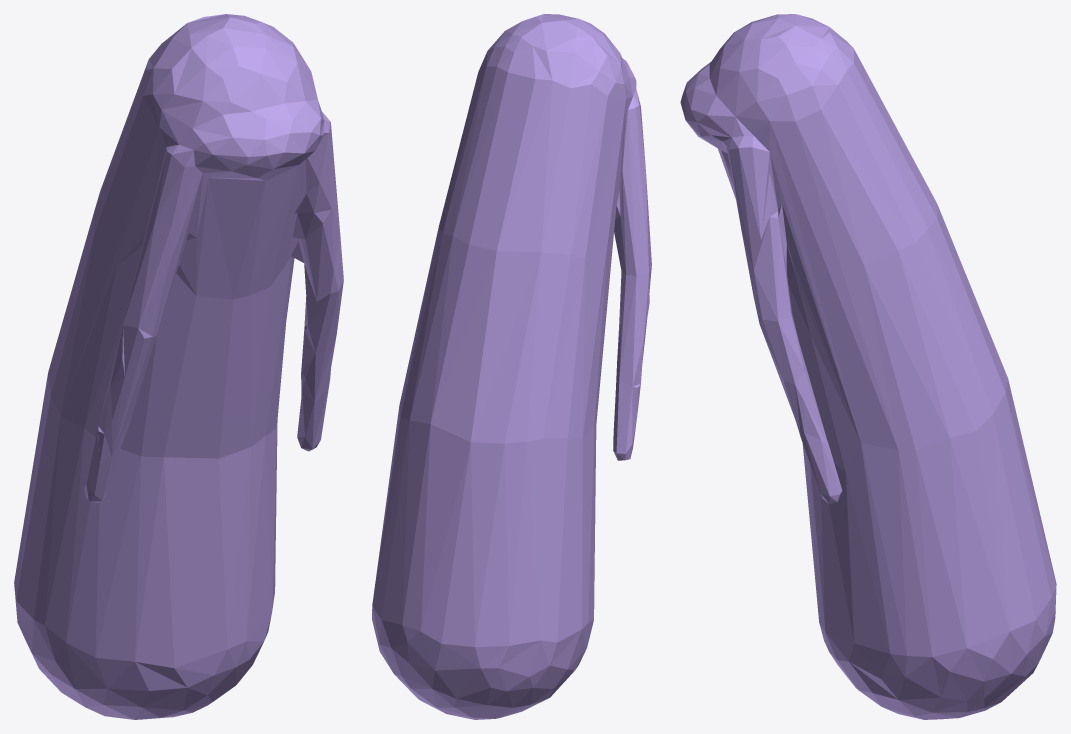
File: spirit_mourner_veil.glb
The picture shows the model from 3 angles, left to right: view 1: azimuth 30°, elevation 25°; view 2: azimuth 150°, elevation 25°; view 3: azimuth 270°, elevation 25°; orthographic projection. The views are drawn at different scales.
Visible parts, largest first — view 1: spirit_mourner_veil; view 2: spirit_mourner_veil; view 3: spirit_mourner_veil.
Boxes of the visible parts, left/top/right/bottom form: spirit_mourner_veil: left=14, top=14, right=343, bottom=719; spirit_mourner_veil: left=372, top=14, right=651, bottom=719; spirit_mourner_veil: left=680, top=14, right=1056, bottom=719.
Size of the model in its own units: 0.658 by 2.01 by 0.9956.
